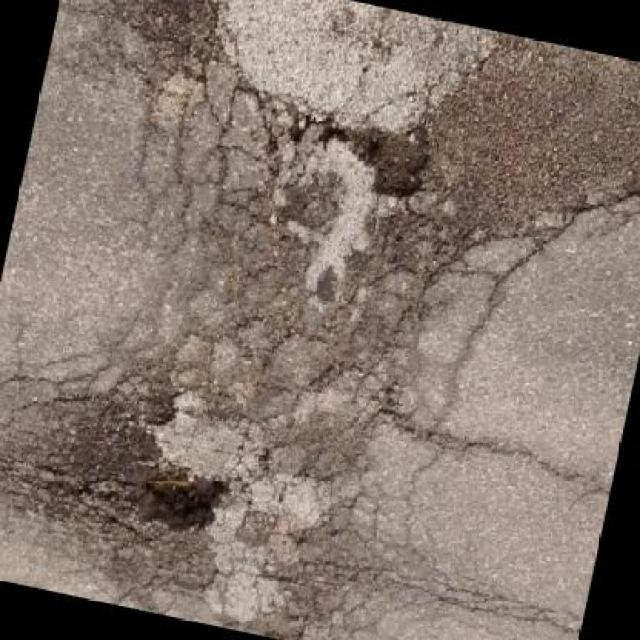pothole: (132, 458, 232, 545), (356, 110, 439, 208)
